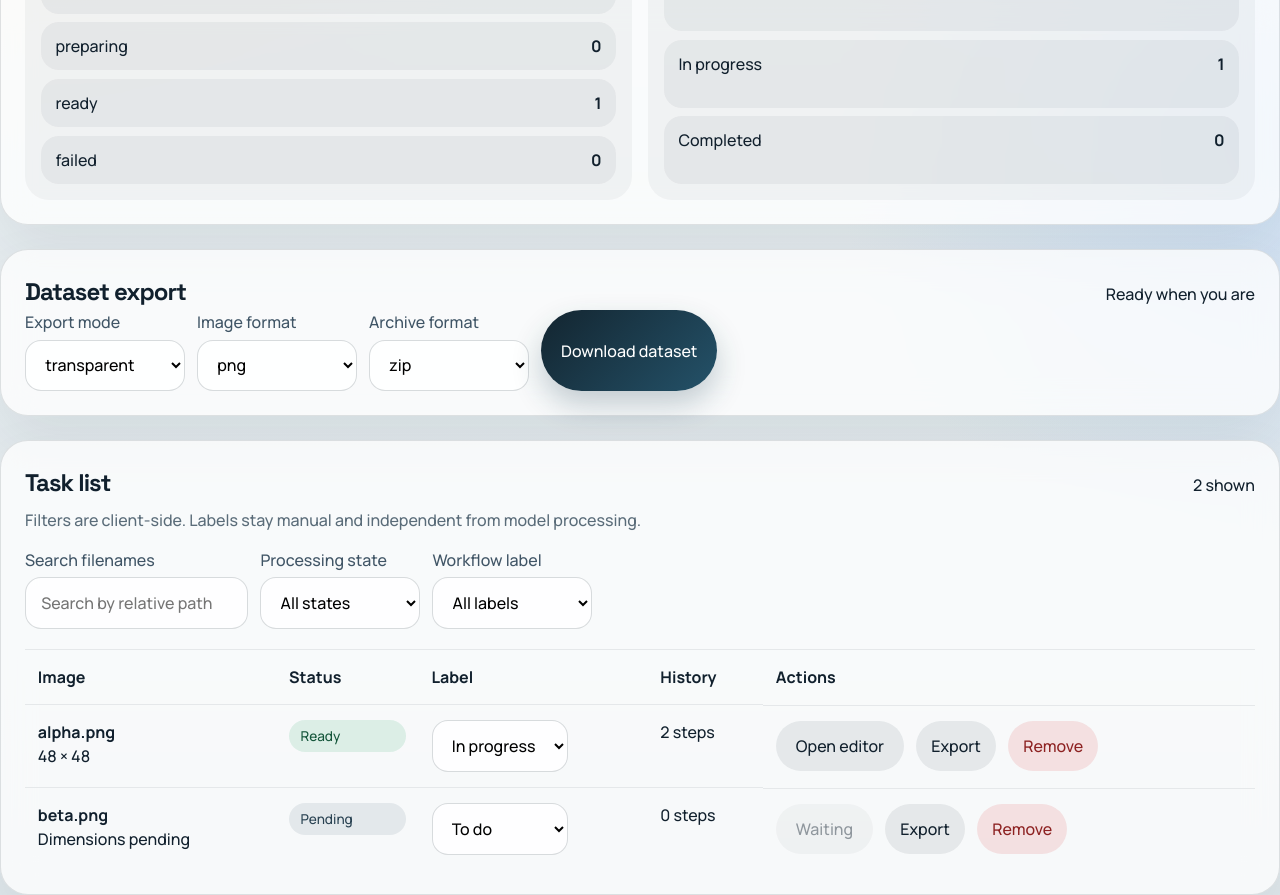
Test: DatasetPage › renders the server-driven primary action and filters the task list
(page scrolled)
Expected: the text "alpha.png" is shown, top-left (38, 721), bottom-right (115, 743)
Expected: the text "beta.png" is shown, top-left (38, 804), bottom-right (108, 826)
Type "beta" into the field labelled "Search filenames" at (137, 603), box top-left (25, 577), bottom-right (248, 629)
(page scrolled)
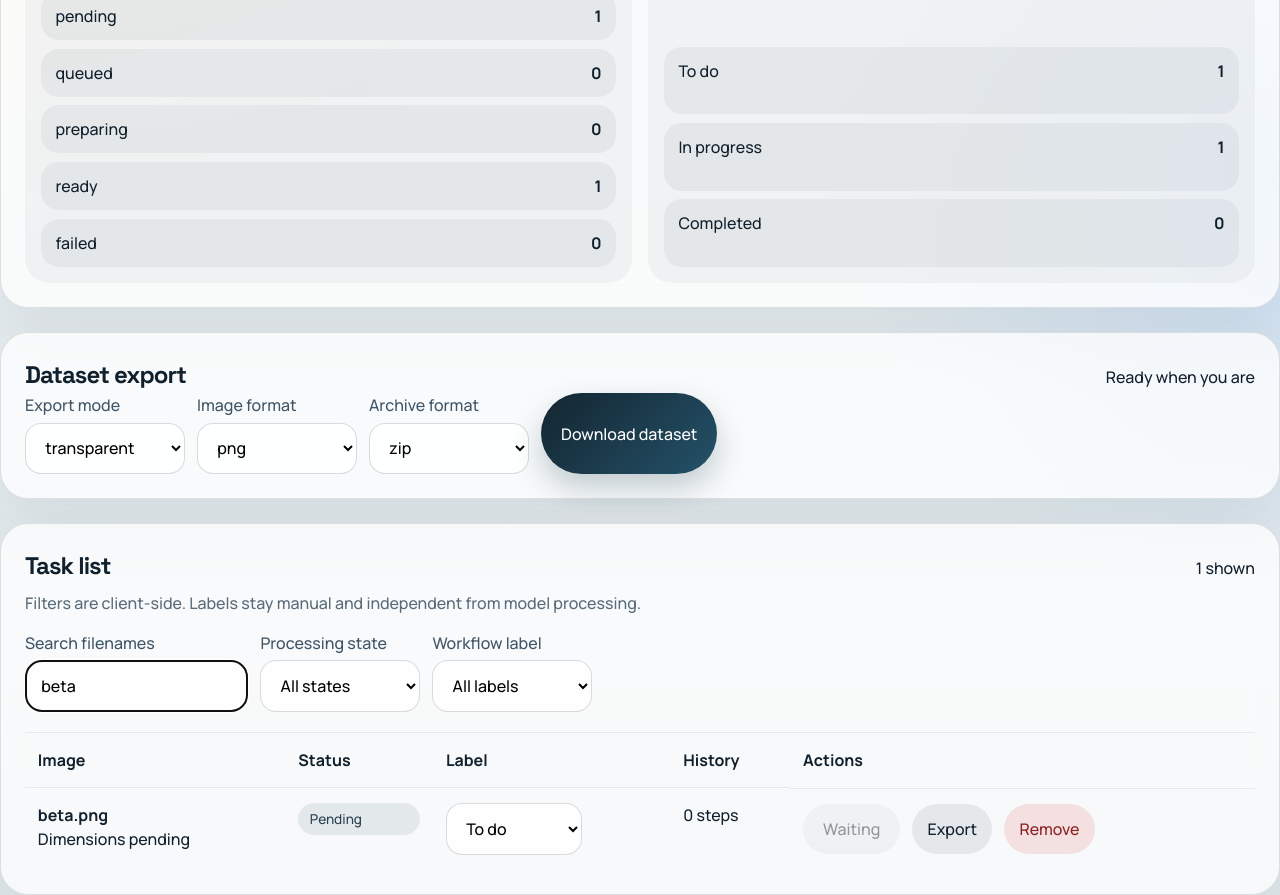
Expected: the text "beta.png" is shown, top-left (38, 804), bottom-right (108, 826)
Expected: the text "alpha.png" is gone
Clear the field labelled "Search filenames" at (137, 686), box top-left (25, 660), bottom-right (248, 712)
(page scrolled)
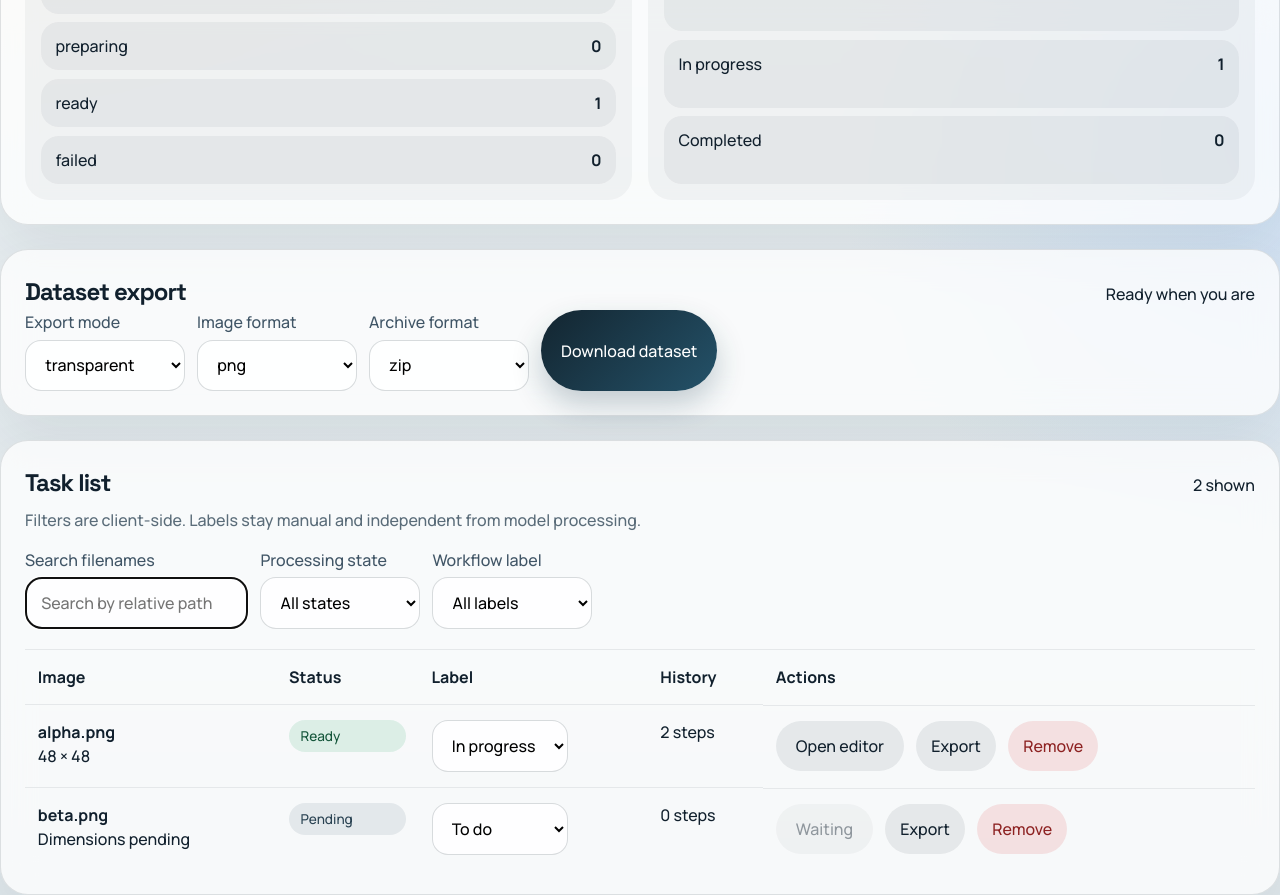
Select "Ready" in the dropdown labelled "Processing state" at (340, 603), box top-left (260, 577), bottom-right (420, 629)
(page scrolled)
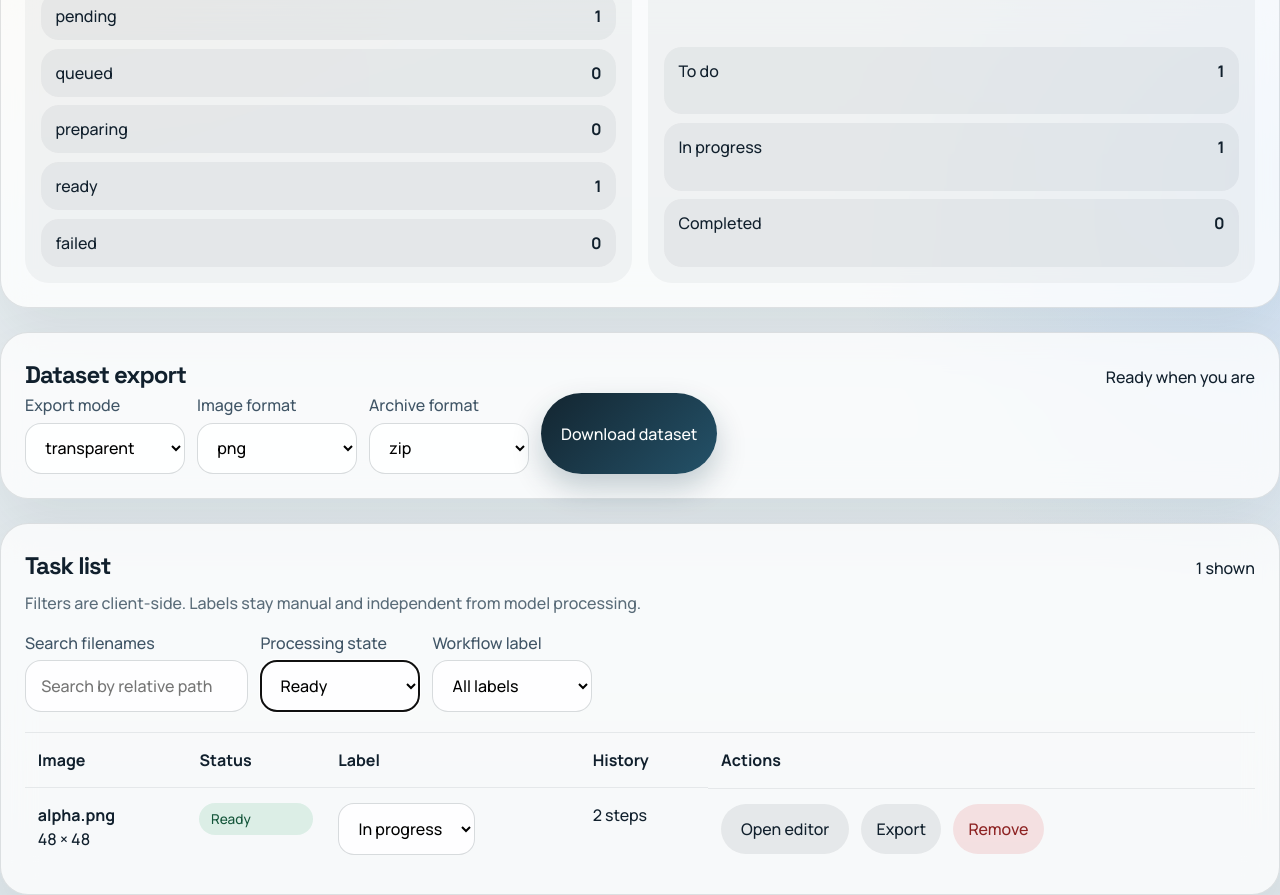
Expected: the text "alpha.png" is shown, top-left (38, 804), bottom-right (115, 826)
Expected: the text "beta.png" is gone
